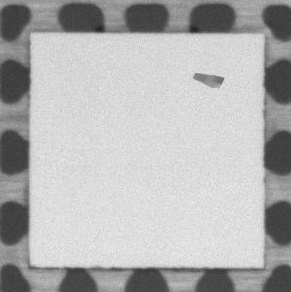DIE_INK: (189, 70, 225, 91)
